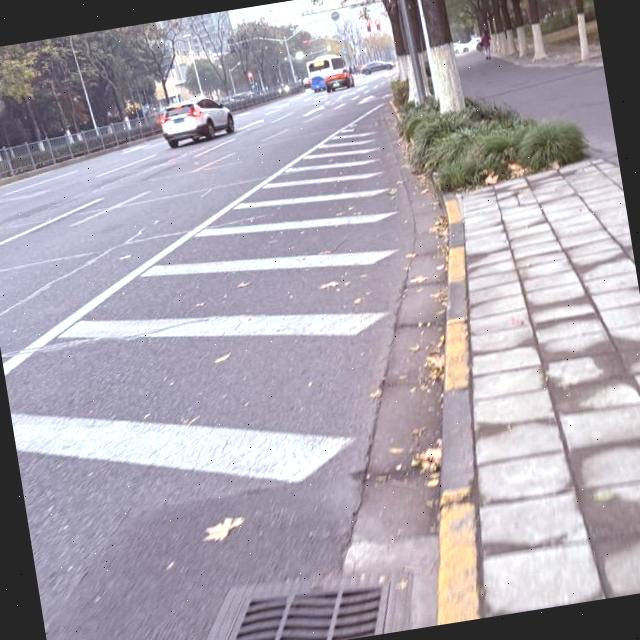curb: (437, 199, 481, 624), (0, 133, 159, 187)
